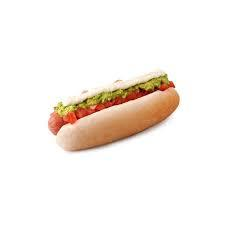Completos: (45, 65, 183, 158)
